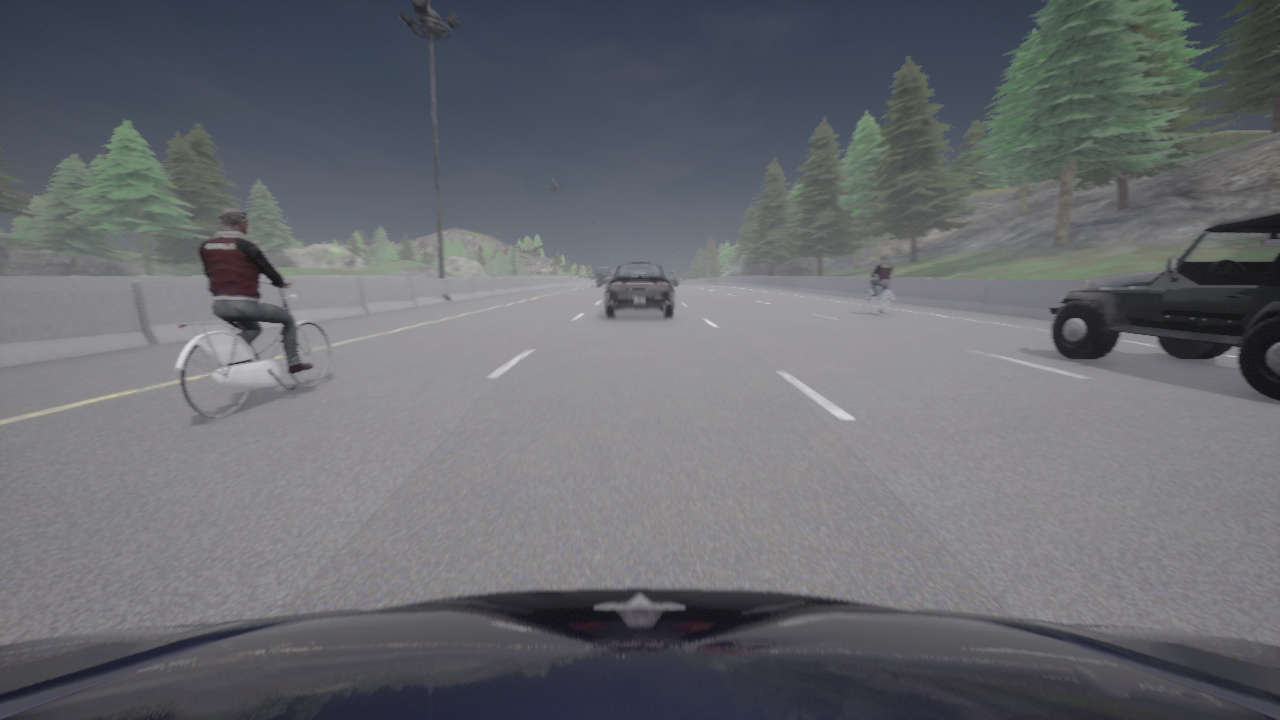cyclist: (0, 588, 1279, 719), (1048, 210, 1279, 400), (176, 281, 330, 418), (605, 263, 674, 317), (863, 287, 893, 315), (596, 267, 613, 286), (666, 273, 677, 285), (627, 260, 652, 263)
